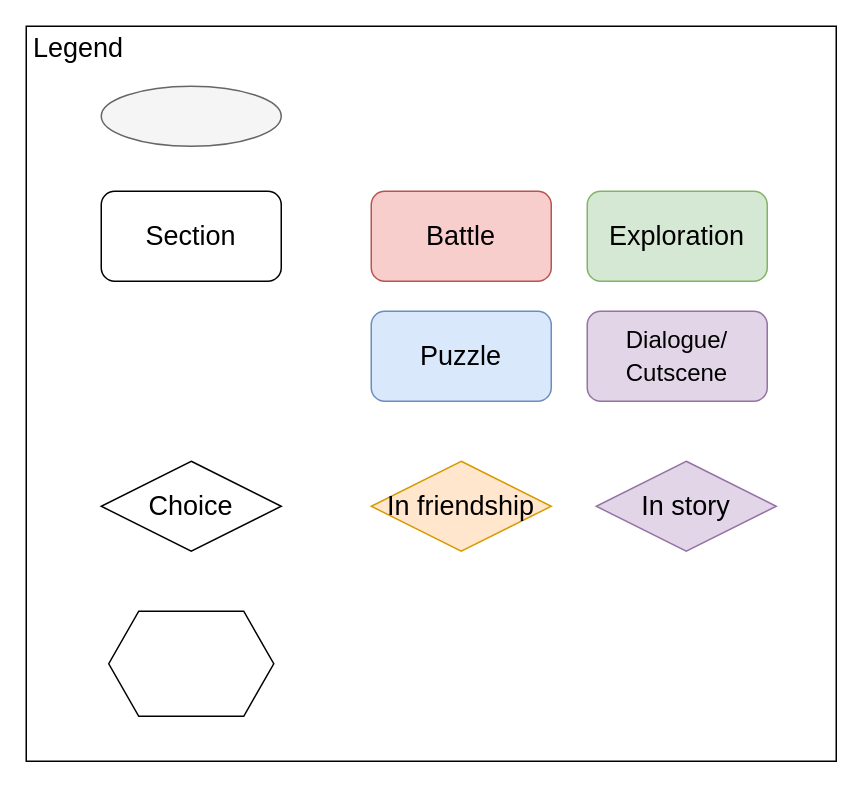
This 863x788 diagram has some shape labels left out. The box of each missing label's shape, as (x1, y1, x2, y2) in pixels:
Conditional Event: (107, 610, 274, 716)
Start / End: (100, 85, 281, 146)
